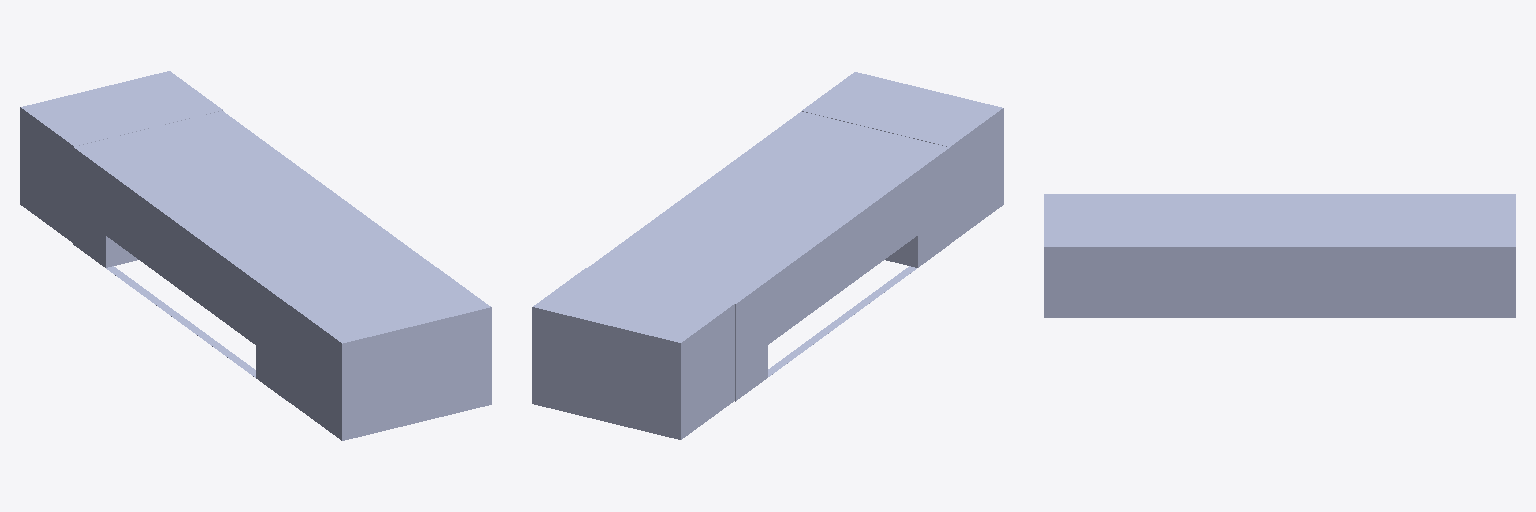
The robot description file, URDF, robot "work_area":
<?xml version="1.0" encoding="utf-8"?>
<!-- This URDF was automatically created by SolidWorks to URDF Exporter! Originally created by [author] ([email redacted]) 
     Commit Version: 1.5.1-0-g916b5db  Build Version: 1.5.7152.31018
     For more information, please see http://wiki.ros.org/sw_urdf_exporter -->
<robot
  name="work_area">
  <link
    name="base_link">
    <inertial>
      <origin
        xyz="2.08281741801322 7.5 -1.2058554801192"
        rpy="0 0 0" />
      <mass
        value="141252.86687928" />
      <inertia
        ixx="894622.367303791"
        ixy="1.02439794584622E-10"
        ixz="10007.2834194639"
        iyy="254223.432161402"
        iyz="-7.49406961962654E-12"
        izz="1006916.14437173" />
    </inertial>
    <visual>
      <origin
        xyz="0 0 0"
        rpy="0 0 0" />
      <geometry>
        <mesh
          filename="package://work_area/meshes/base_link.STL" />
      </geometry>
      <material
        name="">
        <color
          rgba="0.792156862745098 0.819607843137255 0.933333333333333 1" />
      </material>
    </visual>
    <collision>
      <origin
        xyz="0 0 0"
        rpy="0 0 0" />
      <geometry>
        <mesh
          filename="package://work_area/meshes/base_link.STL" />
      </geometry>
    </collision>
  </link>
</robot>

--- What the picture shows (computed from the rendered views, not written in the file) ---
The picture shows the robot from 3 angles, left to right: view 1: azimuth 30°, elevation 25°; view 2: azimuth 150°, elevation 25°; view 3: azimuth 270°, elevation 25°; orthographic projection.
Robot: work_area — 1 links, 0 joints (none); root link base_link; default pose: every joint at zero.
Visible links, largest first — view 1: base_link; view 2: base_link; view 3: base_link.
Boxes of the visible links, left/top/right/bottom form: base_link: left=20, top=71, right=491, bottom=440; base_link: left=532, top=72, right=1003, bottom=439; base_link: left=1044, top=194, right=1515, bottom=317.
Bounding box of the posed robot: 4.03 × 15 × 2.51 m (x, y, z).
1 mesh visuals loaded from 1 distinct referenced files (1 binary STL).